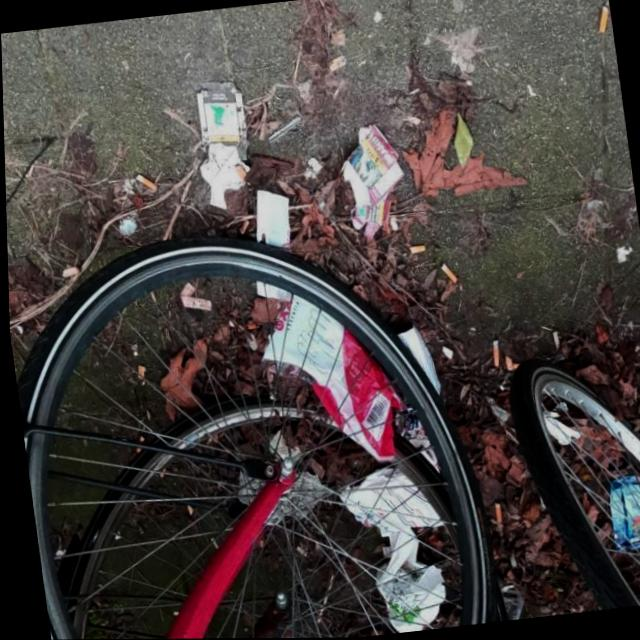Paper: (333, 117, 412, 241), (186, 75, 256, 211), (332, 461, 441, 538), (366, 523, 445, 611)
Plastic: (247, 282, 418, 474), (601, 471, 640, 555), (176, 279, 211, 314), (392, 410, 424, 439)
